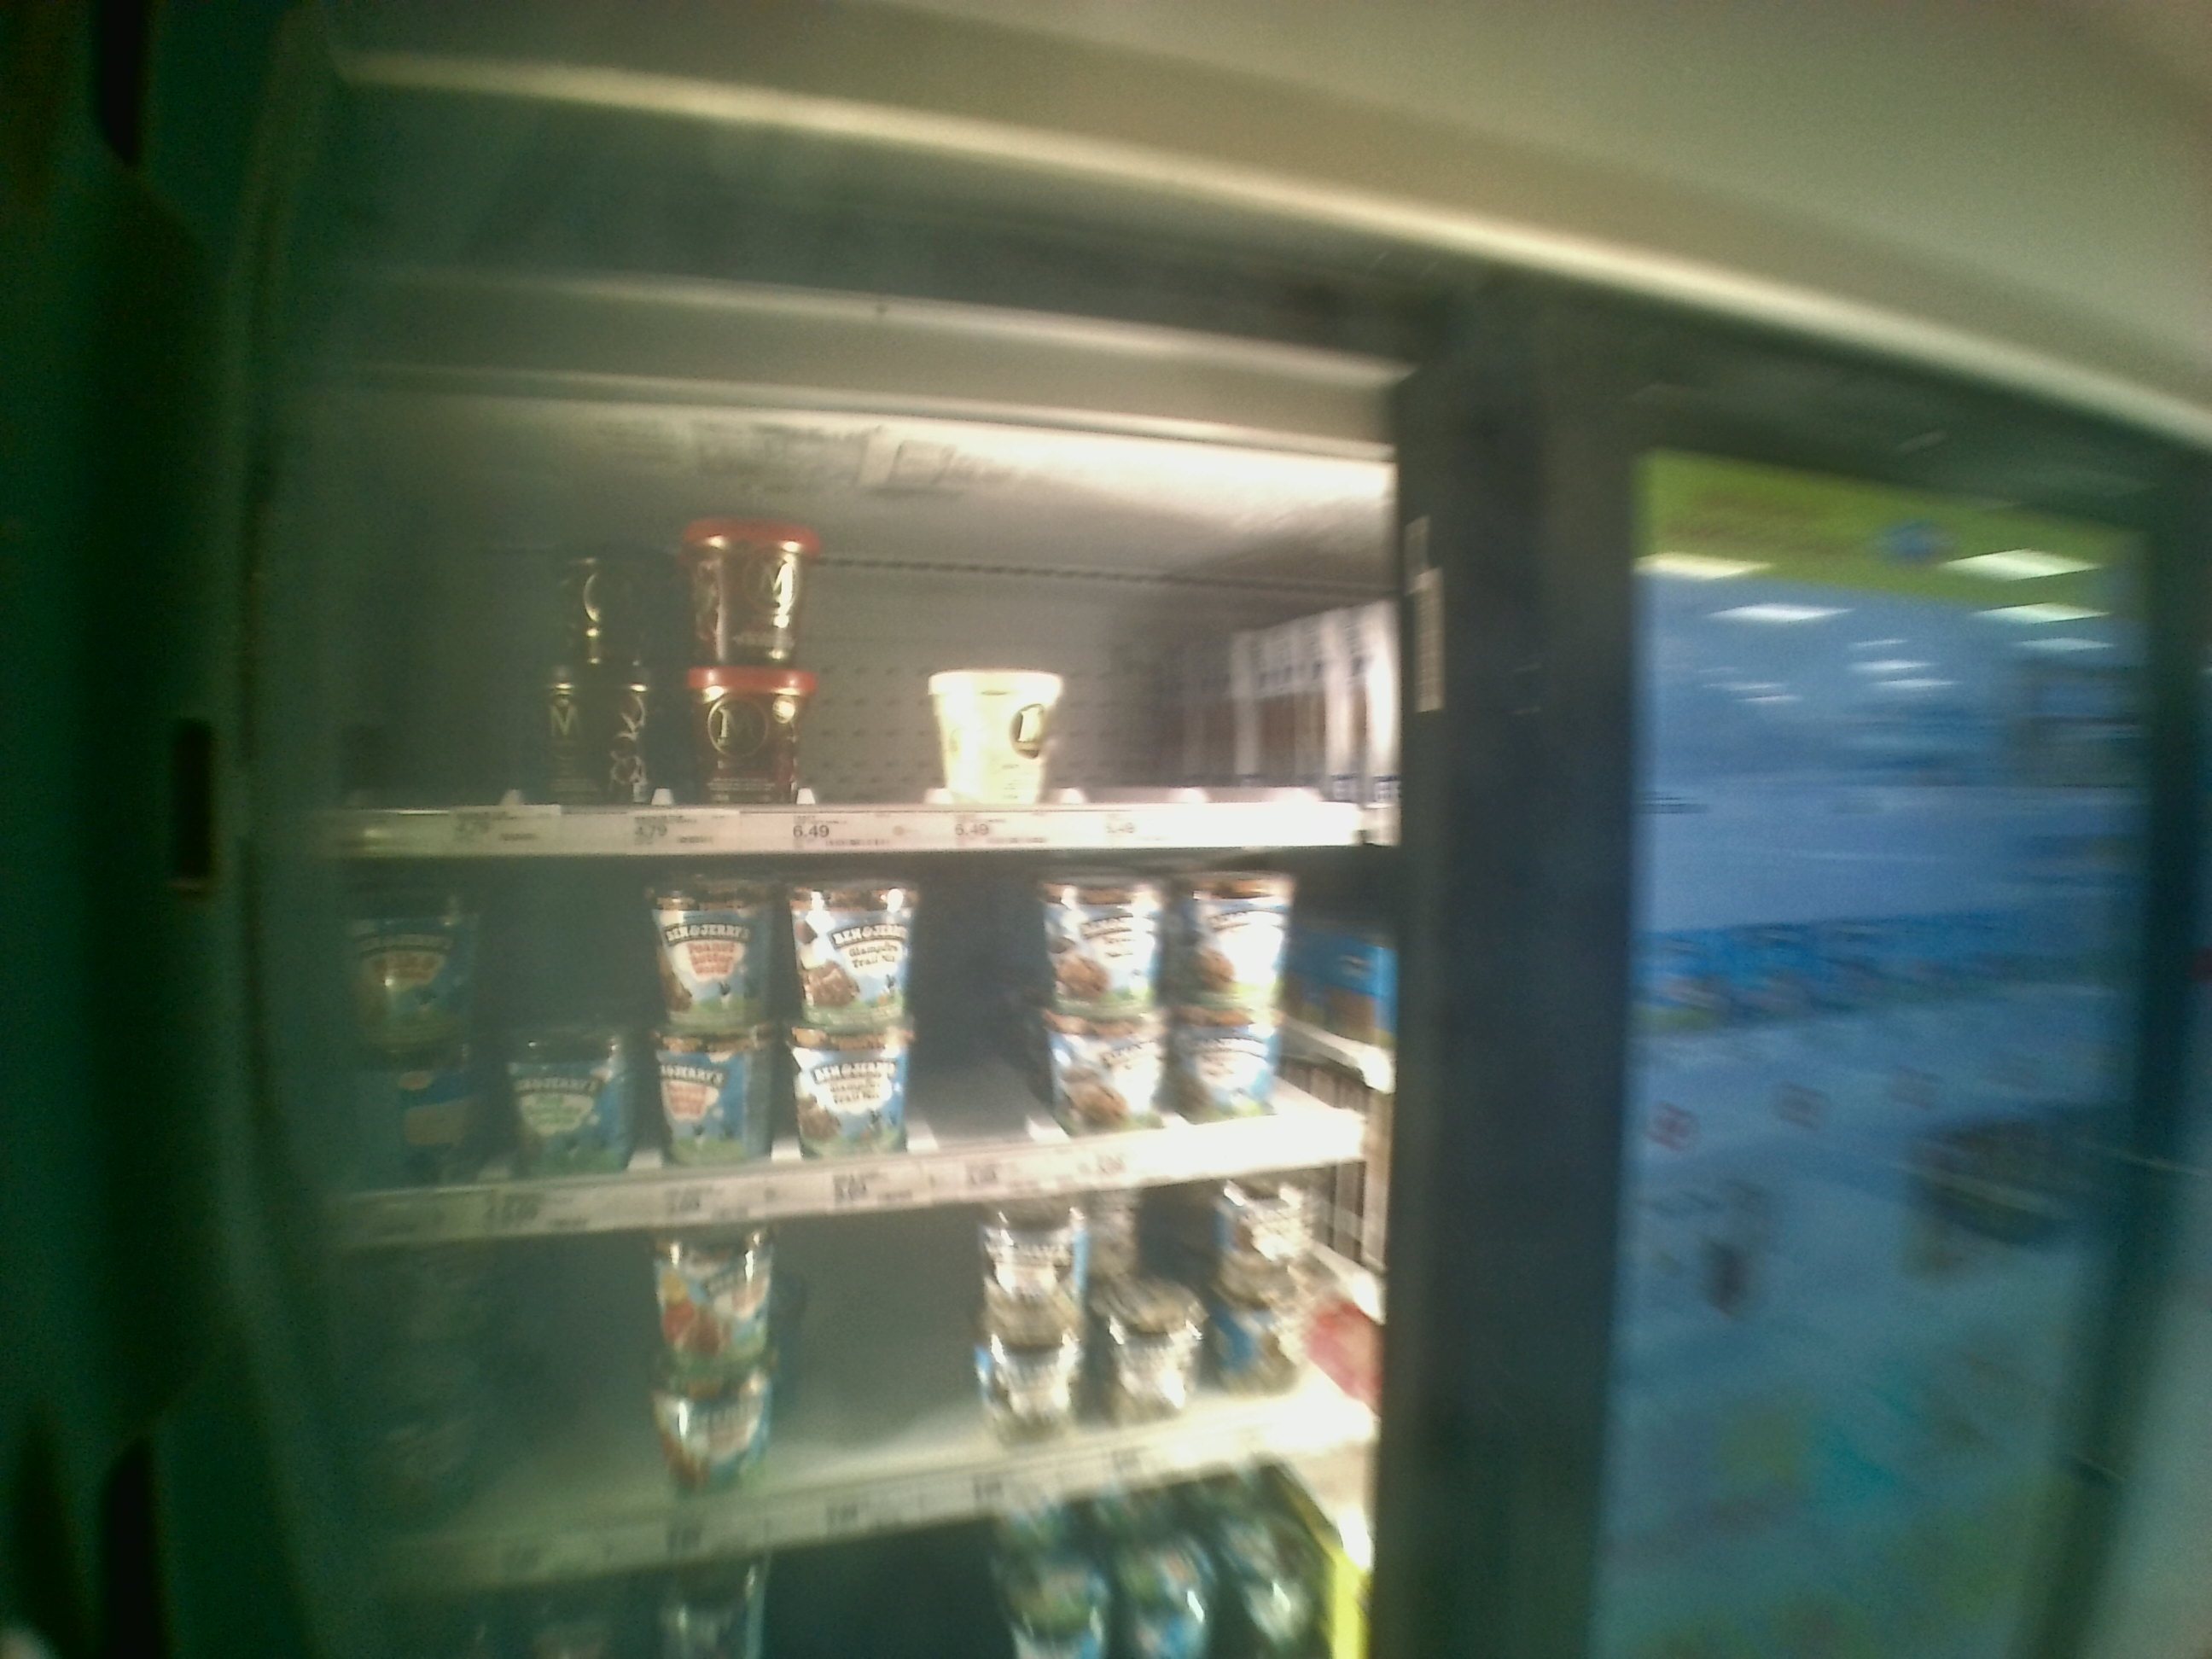shelf: (314, 427, 1411, 847), (308, 852, 1425, 1244)
